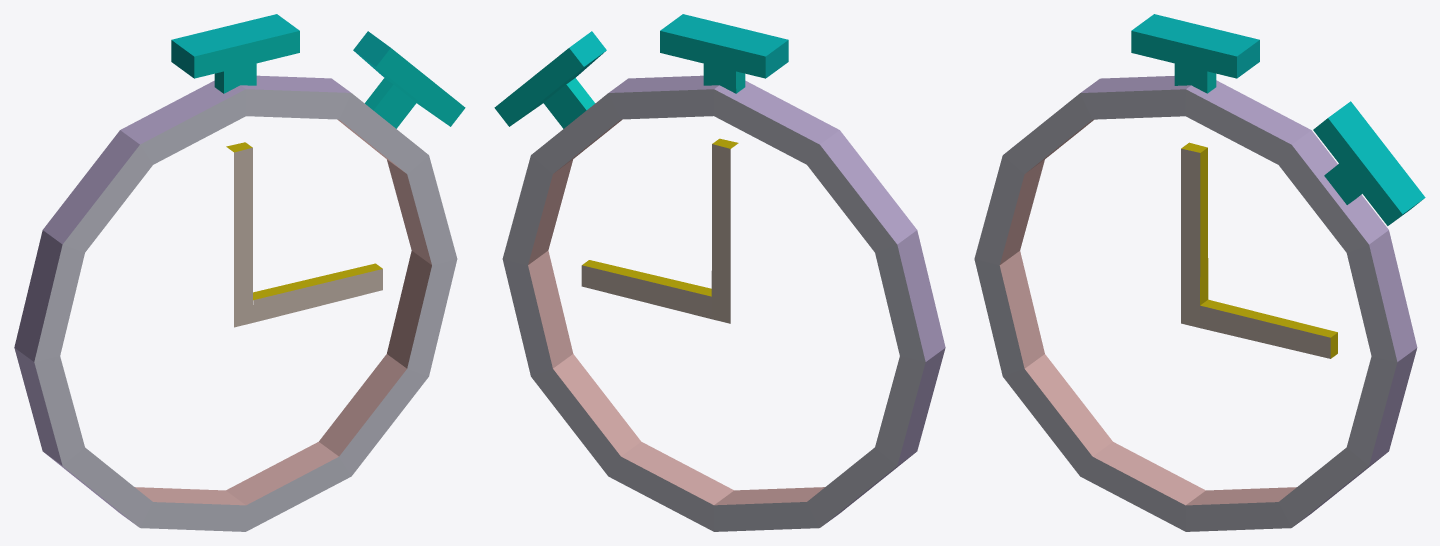
The model's file is colect_clock.glb.
The picture shows the model from 3 angles, left to right: view 1: azimuth 30°, elevation 25°; view 2: azimuth 150°, elevation 25°; view 3: azimuth 330°, elevation 25°; orthographic projection.
Visible parts, largest first — view 1: colect_clock; view 2: colect_clock; view 3: colect_clock.
Part boxes in pixels (<box>): colect_clock: <box>14,14,465,531</box>; colect_clock: <box>494,14,945,531</box>; colect_clock: <box>974,14,1425,531</box>.
Size of the model in its own units: 0.3668 by 0.399 by 0.0339.
